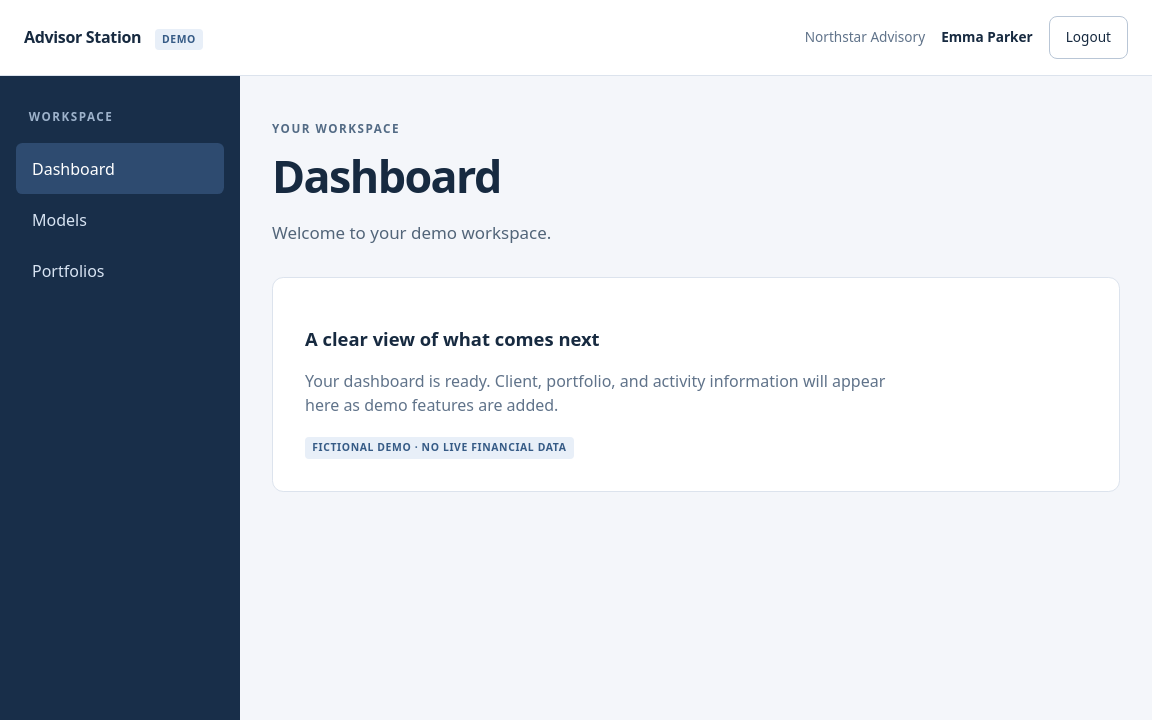
Scenario: shows failed logout in the workspace and keeps the advisor until removal succeeds
The image size is (1152, 720).
Click the button "Logout" at (1088, 38), box left=1049, top=16, right=1128, bottom=59
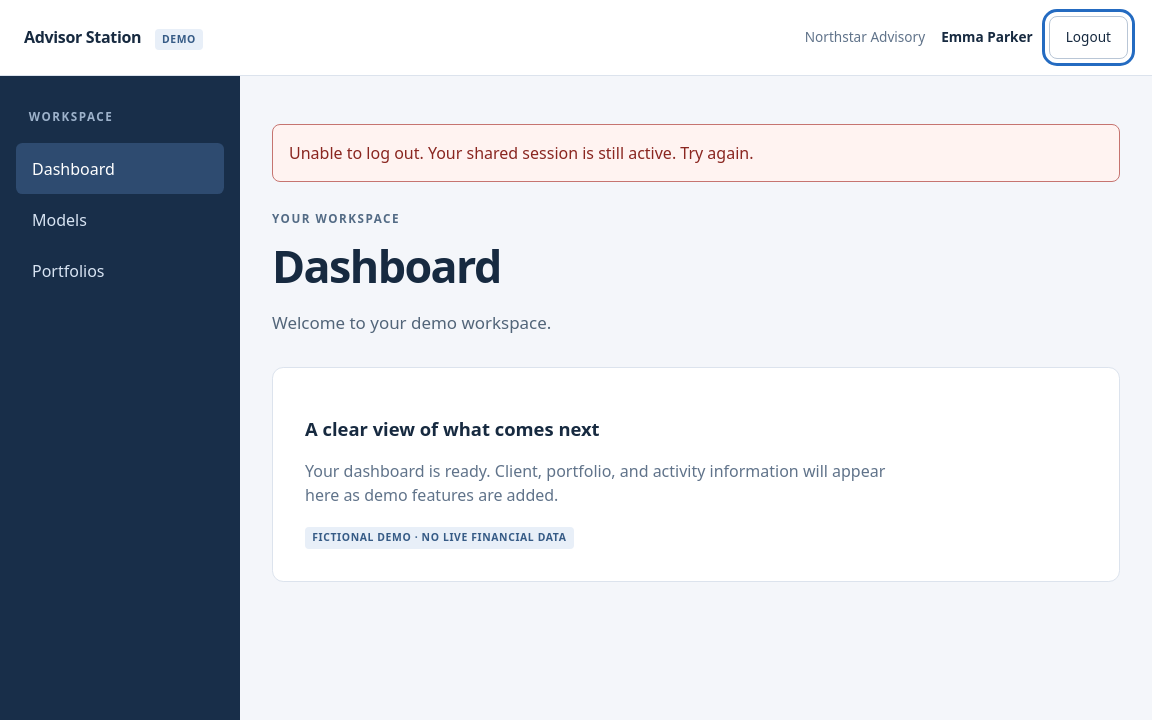
Expected: the text "Emma Parker" is shown, left=941, top=27, right=1033, bottom=48
Expected: the message shows "Unable to log out", left=289, top=142, right=754, bottom=164
Click the button "Logout" at (1088, 38), box left=1049, top=16, right=1128, bottom=59
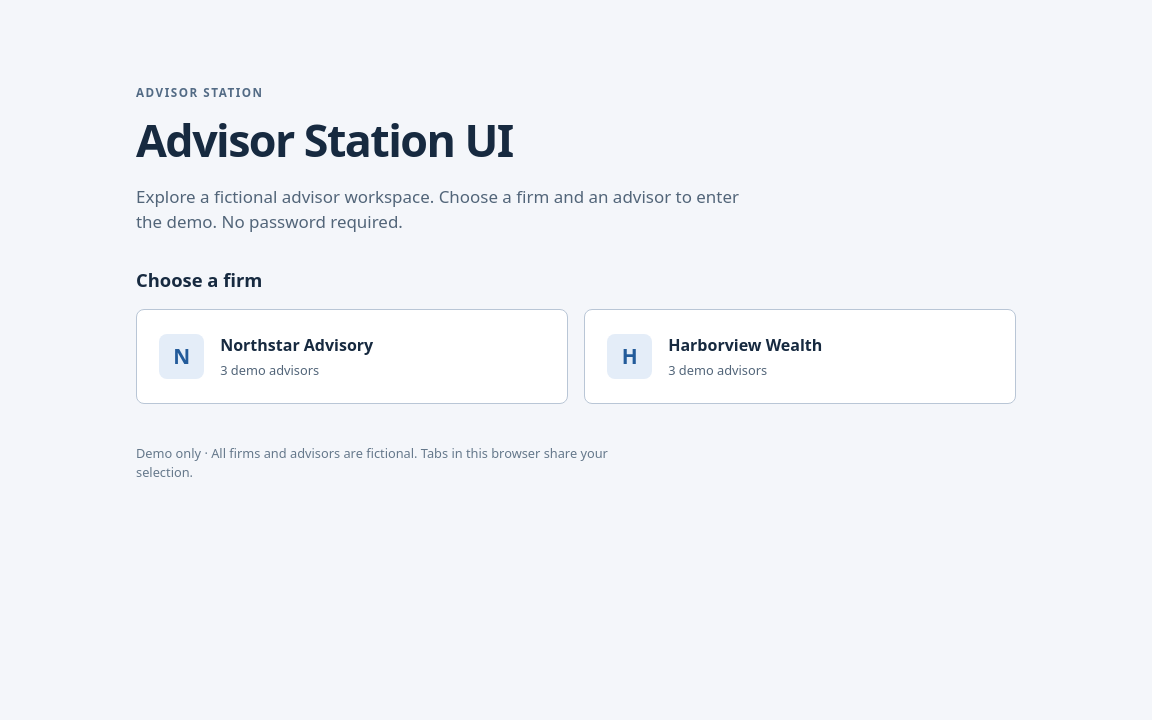
Expected: the heading "Advisor Station UI" is shown, left=136, top=109, right=513, bottom=170
